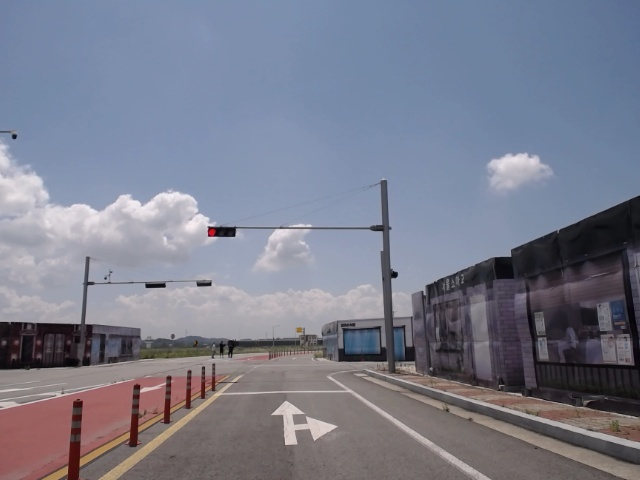red_3: (206, 226, 237, 238)
